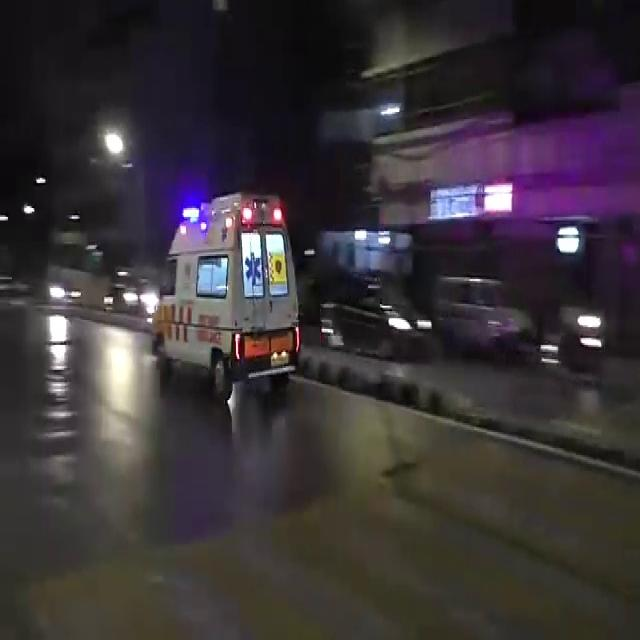ambulance: (150, 182, 349, 410)
